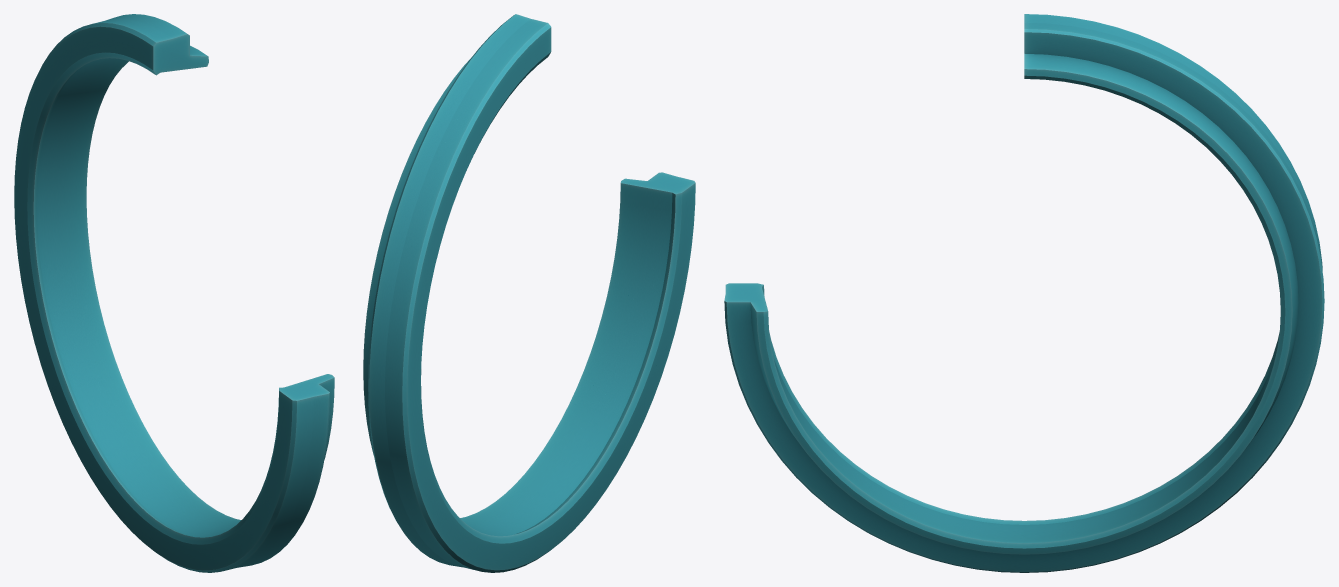
3 views of the same model, side by side, from view 1: azimuth 30°, elevation 25°; view 2: azimuth 150°, elevation 25°; view 3: azimuth 270°, elevation 25° (orthographic). The views are drawn at different scales.
Parts seen in each view (by area): view 1: PR00083_zurcon_scraper_wae; view 2: PR00083_zurcon_scraper_wae; view 3: PR00083_zurcon_scraper_wae.
Part boxes in pixels (x1,y1,x2,y2): PR00083_zurcon_scraper_wae: [14, 14, 334, 572]; PR00083_zurcon_scraper_wae: [363, 14, 695, 572]; PR00083_zurcon_scraper_wae: [724, 14, 1324, 572].
Size of the model in its own units: 0.0226 by 0.1986 by 0.1986.
1 material, 1 textured.
